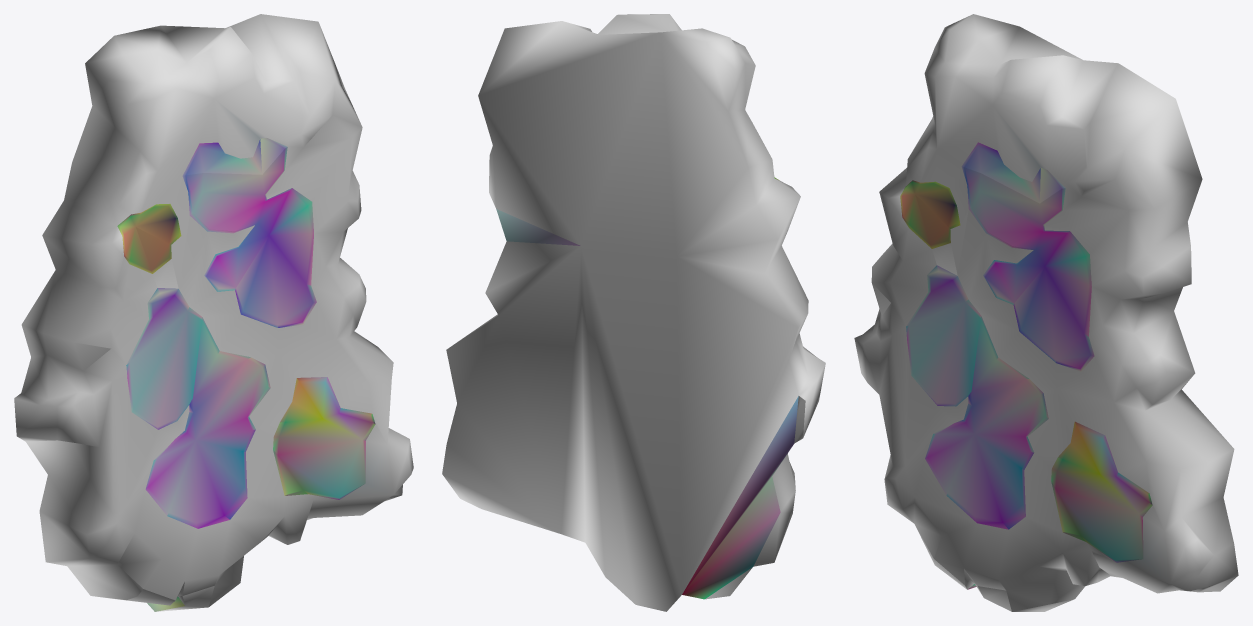
Rendered from Volcano_PlatformA.glb.
3 views of the same model, side by side, from view 1: azimuth 30°, elevation 25°; view 2: azimuth 150°, elevation 25°; view 3: azimuth 330°, elevation 25° (orthographic).
Parts seen in each view (by area): view 1: MeshNode_0, MeshNode_1; view 2: MeshNode_0, MeshNode_1; view 3: MeshNode_0, MeshNode_1.
Part boxes in pixels (bbox=[...]): MeshNode_0: bbox=[14, 14, 413, 611]; MeshNode_1: bbox=[117, 138, 375, 611]; MeshNode_0: bbox=[442, 14, 825, 611]; MeshNode_1: bbox=[496, 177, 798, 599]; MeshNode_0: bbox=[854, 14, 1238, 611]; MeshNode_1: bbox=[900, 142, 1152, 589].
Size of the model in its own units: 99.89 by 152 by 19.98.
